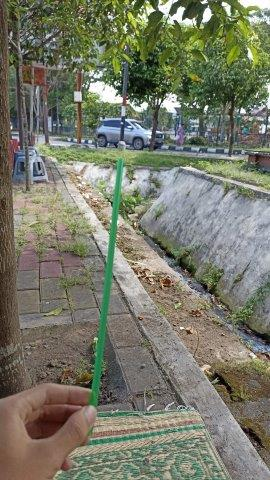sedotan: (87, 159, 123, 431)
